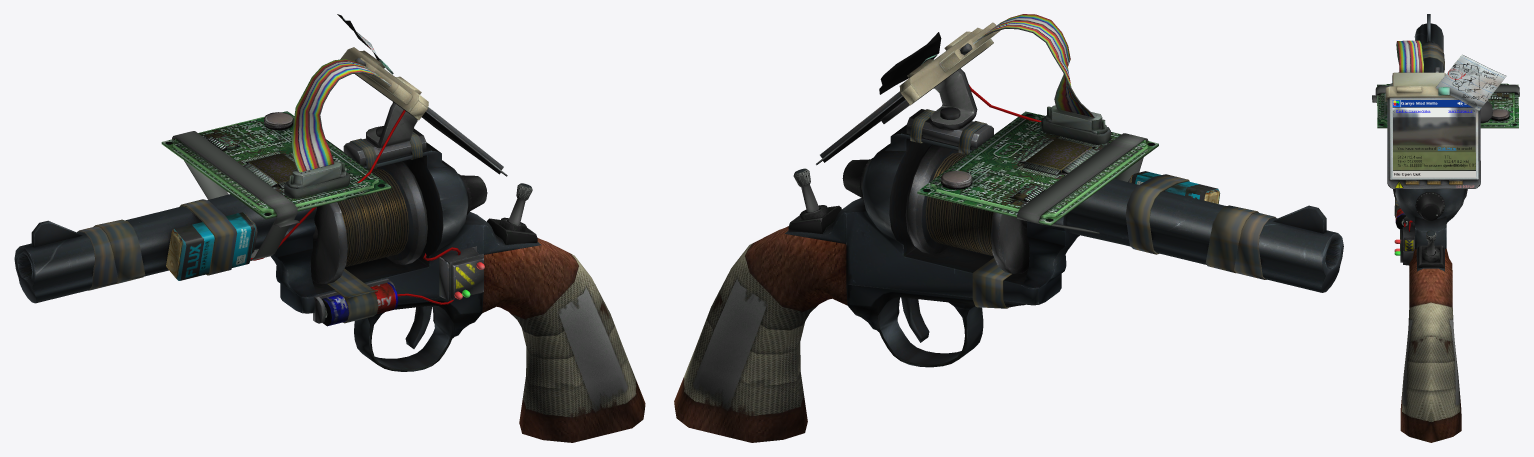
Rendered from ToolGun.glb.
The picture shows the model from 3 angles, left to right: view 1: azimuth 30°, elevation 25°; view 2: azimuth 150°, elevation 25°; view 3: azimuth 270°, elevation 25°; orthographic projection. The views are drawn at different scales.
Parts seen in each view (by area): view 1: HL2DM_toolgun_reference; view 2: HL2DM_toolgun_reference; view 3: HL2DM_toolgun_reference.
Boxes of the visible parts, x1,y1,x2,y2 form: HL2DM_toolgun_reference: (14, 14, 645, 442); HL2DM_toolgun_reference: (674, 14, 1343, 442); HL2DM_toolgun_reference: (1372, 14, 1519, 442).
Bounding box in the file's own units: 14.63 × 9.73 × 4.39.
4 materials, 4 textured.
